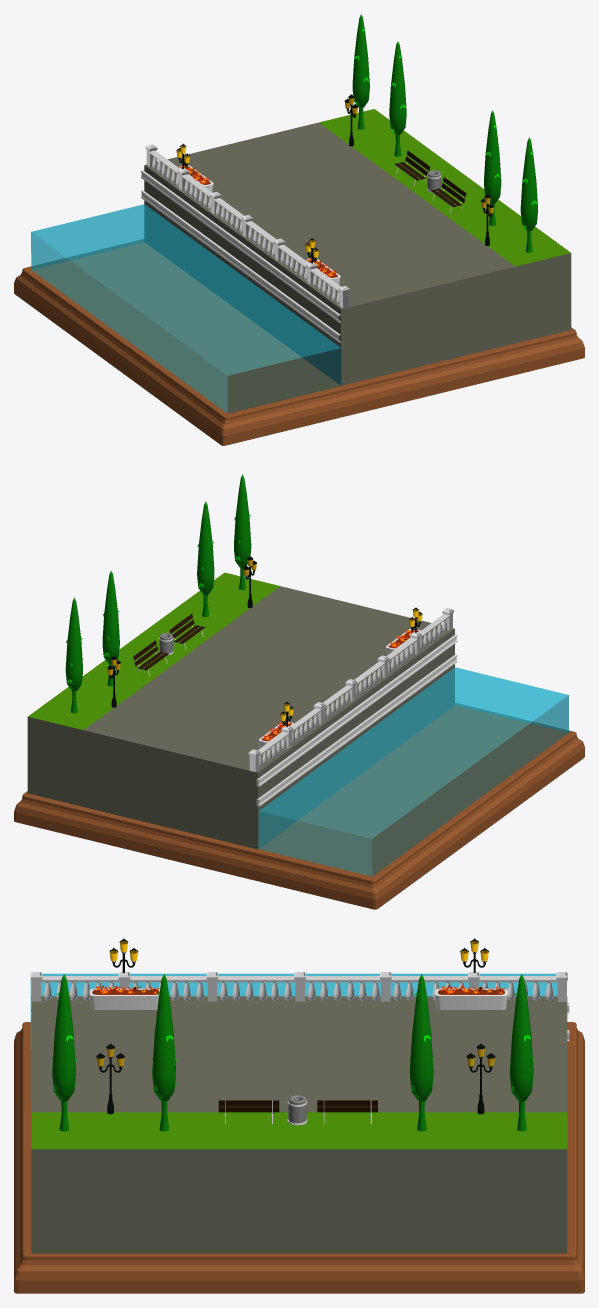
Rendered from Level54.FBX.
3 renders of one model, top to bottom at view 1: azimuth 30°, elevation 25°; view 2: azimuth 150°, elevation 25°; view 3: azimuth 270°, elevation 25°, orthographic. The views are drawn at different scales.
Parts seen in each view (by area): view 1: Box157; view 2: Box157; view 3: Box157.
Boxes of the visible parts, x1,y1,x2,y2 form: Box157: (14, 14, 584, 445); Box157: (14, 474, 584, 909); Box157: (14, 938, 584, 1293).
Bounding box in the file's own units: 336 × 191 × 336.
